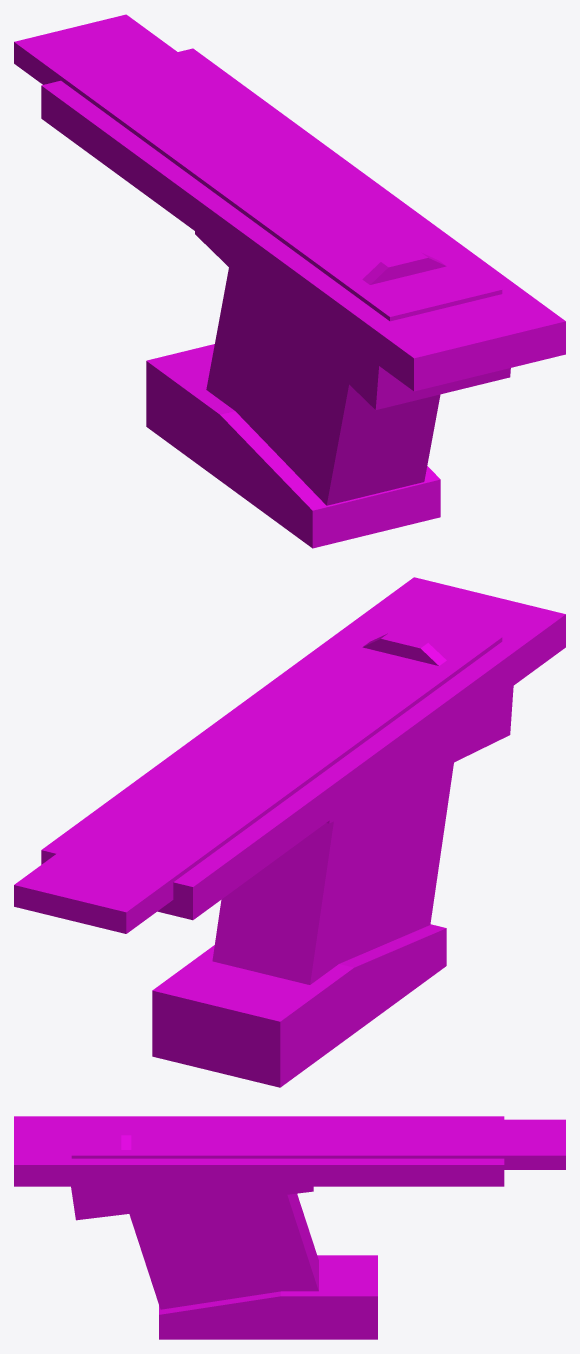
Rendered from SM_CTScannerBedCollider.fbx.
3 renders of one model, top to bottom at view 1: azimuth 30°, elevation 25°; view 2: azimuth 150°, elevation 25°; view 3: azimuth 270°, elevation 25°, orthographic. The views are drawn at different scales.
Visible parts, largest first — view 1: CTScannerBedCollision; view 2: CTScannerBedCollision; view 3: CTScannerBedCollision.
Part boxes in pixels (bbox=[...]): CTScannerBedCollision: bbox=[14, 14, 565, 548]; CTScannerBedCollision: bbox=[14, 577, 565, 1087]; CTScannerBedCollision: bbox=[14, 1116, 565, 1339].
Size of the model in its own units: 61.35 by 112 by 294.
